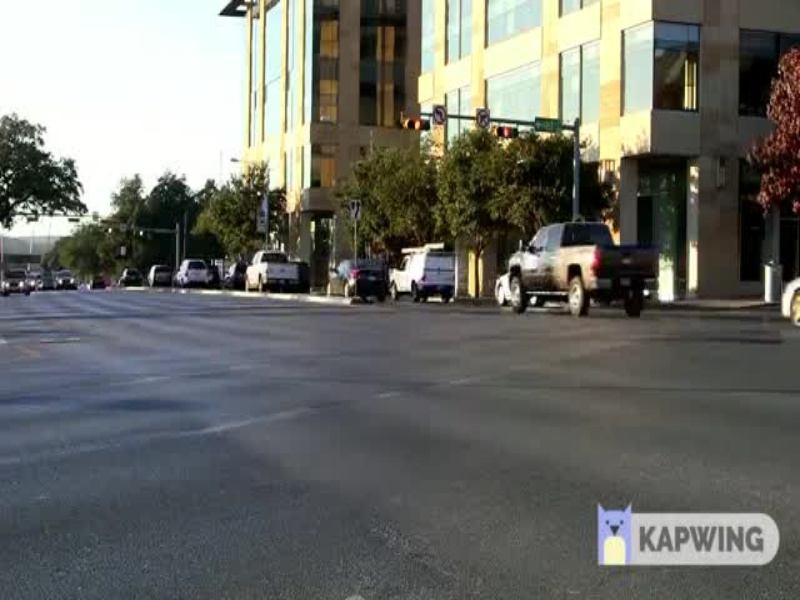car: (308, 256, 396, 299)
truck: (505, 221, 665, 323)
